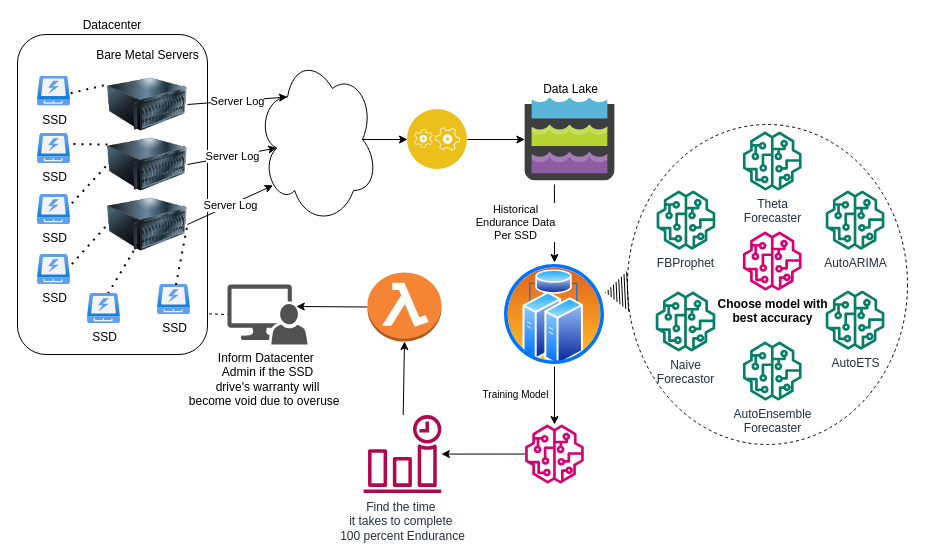
Image size: 925x560. Some labels were removed from this diagram. The centre of each missing label's shape, as x and y in pixels:
"Check if warranty time is less than calculated time for 100 percent endurance" goes at point (404, 307).
"Cloud network" goes at point (317, 139).
"Parser" goes at point (437, 139).
"Predict Endurance values of the SSD drive" goes at point (554, 454).
